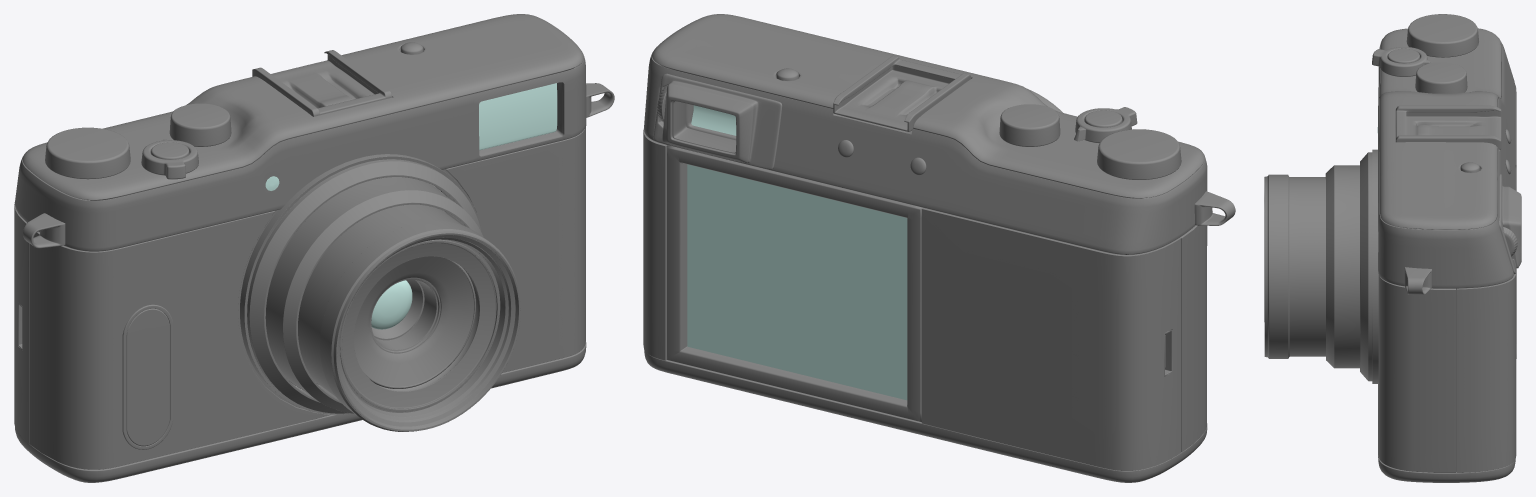
File: Digital Camera.fbx
3 renders of one model, left to right at view 1: azimuth 30°, elevation 25°; view 2: azimuth 150°, elevation 25°; view 3: azimuth 270°, elevation 25°, orthographic. The views are drawn at different scales.
Visible parts, largest first — view 1: camera_mesh, detail_b_mesh, detail_a_mesh, lens_mesh; view 2: camera_mesh, lens_mesh, detail_a_mesh, detail_b_mesh; view 3: camera_mesh, detail_b_mesh, detail_a_mesh.
Part boxes in pixels (x1,y1,x2,y2): camera_mesh: [14, 14, 586, 482]; detail_b_mesh: [29, 127, 585, 469]; detail_a_mesh: [23, 42, 614, 449]; lens_mesh: [265, 83, 557, 329]; camera_mesh: [643, 14, 1207, 482]; lens_mesh: [687, 105, 907, 400]; detail_a_mesh: [653, 55, 1235, 225]; detail_b_mesh: [1180, 225, 1207, 452]; camera_mesh: [1264, 28, 1516, 482]; detail_b_mesh: [1378, 275, 1455, 472]; detail_a_mesh: [1372, 14, 1521, 294].
Size of the model in its own units: 14.96 by 7.73 by 6.77.
